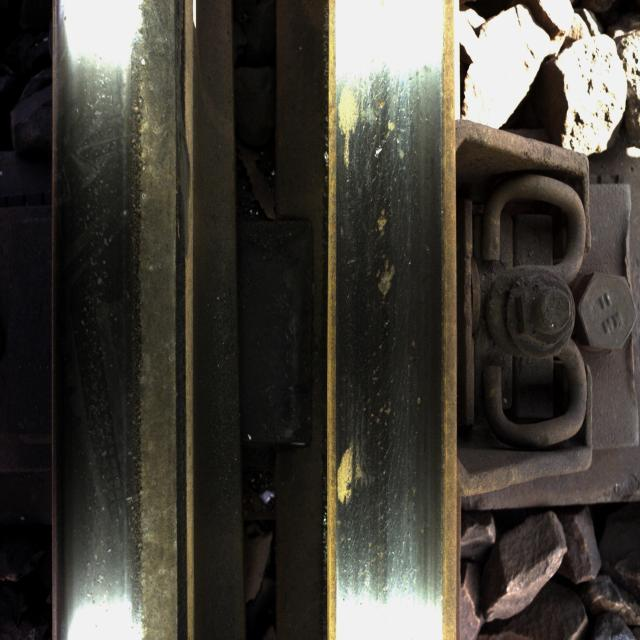crack: (330, 46, 422, 519)
normal: (68, 21, 168, 612)
